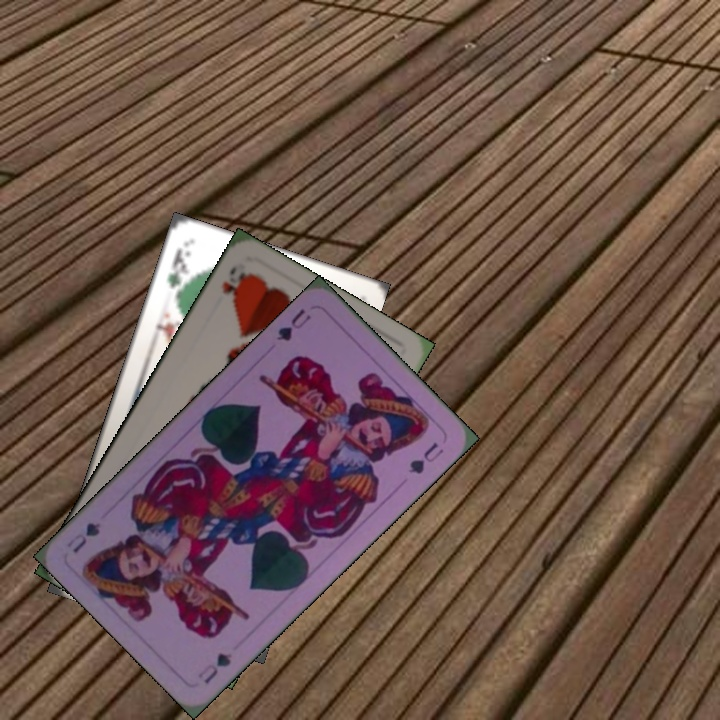GK: (162, 243, 194, 301)
GU: (272, 304, 314, 344), (193, 648, 235, 687)
HO: (217, 261, 252, 305)
